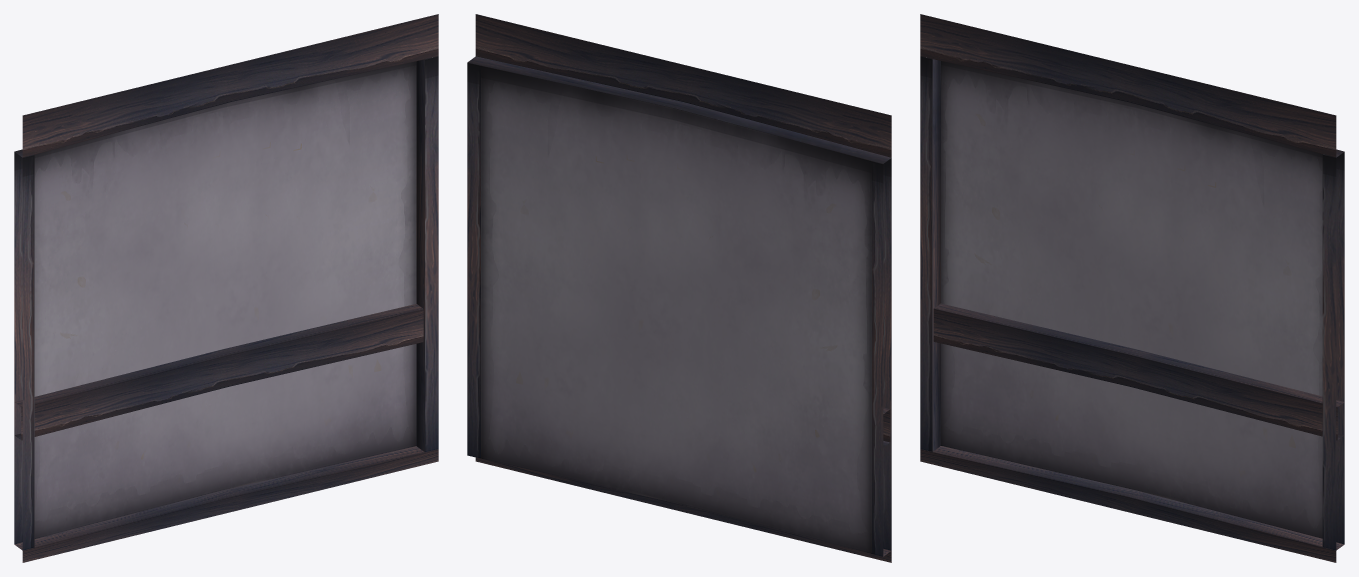
Rendered from Wall_1sided_detailed_2ndFloor.fbx.
3 renders of one model, left to right at view 1: azimuth 30°, elevation 25°; view 2: azimuth 150°, elevation 25°; view 3: azimuth 330°, elevation 25°, orthographic.
Parts seen in each view (by area): view 1: Wall_1sided_detailed_2ndFloor; view 2: Wall_1sided_detailed_2ndFloor; view 3: Wall_1sided_detailed_2ndFloor.
Boxes of the visible parts, x1=… form: Wall_1sided_detailed_2ndFloor: x1=14, y1=14, x2=438, y2=562; Wall_1sided_detailed_2ndFloor: x1=467, y1=14, x2=891, y2=562; Wall_1sided_detailed_2ndFloor: x1=920, y1=14, x2=1344, y2=562.
Size of the model in its own units: 0.6266 by 0.6442 by 0.0222.
